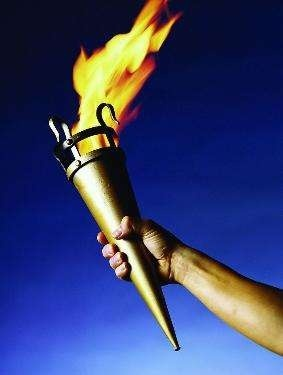fire: (68, 1, 182, 133)
